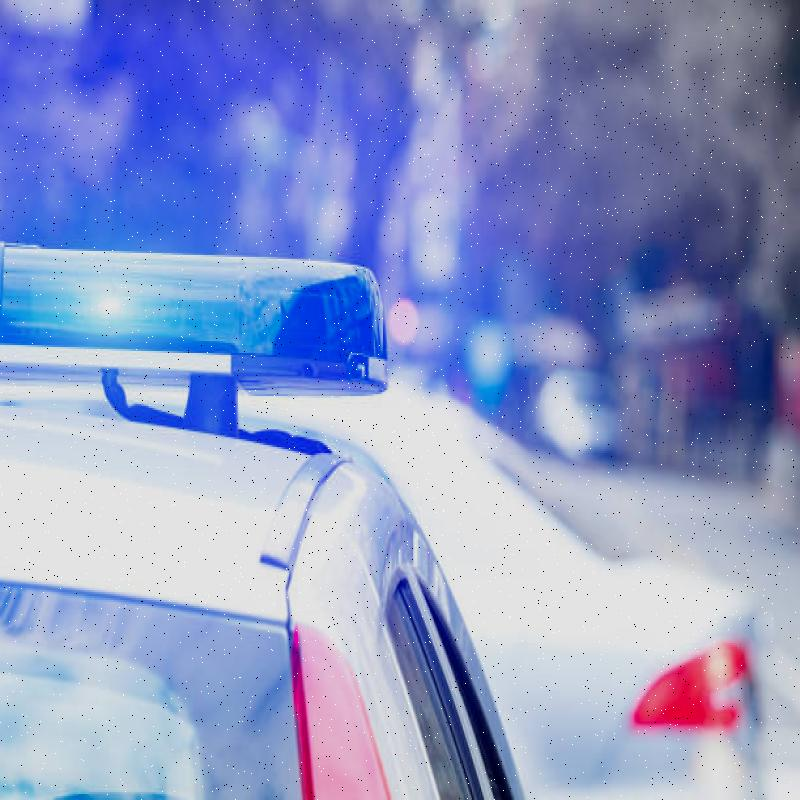AmbulanceSiren: (0, 206, 430, 406)
